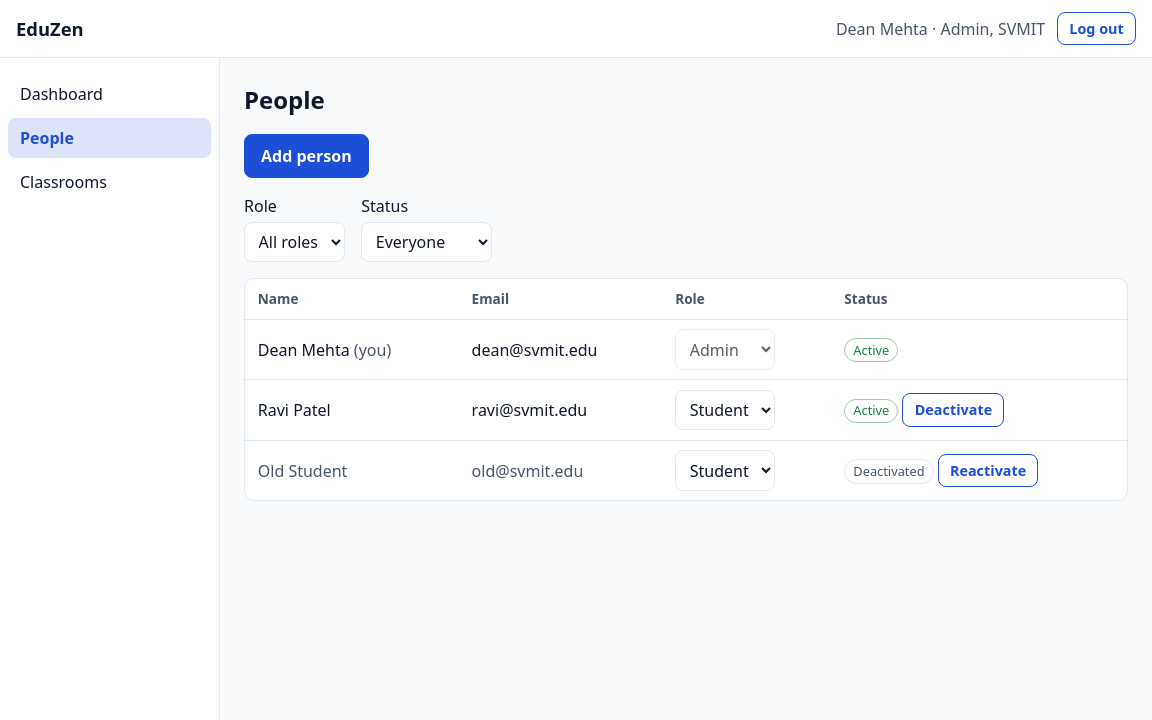
People page › adds a person and confirms it
The width and height of the screenshot is (1152, 720).
Click the button "Add person" at (306, 156), box 244,134 -> 369,178
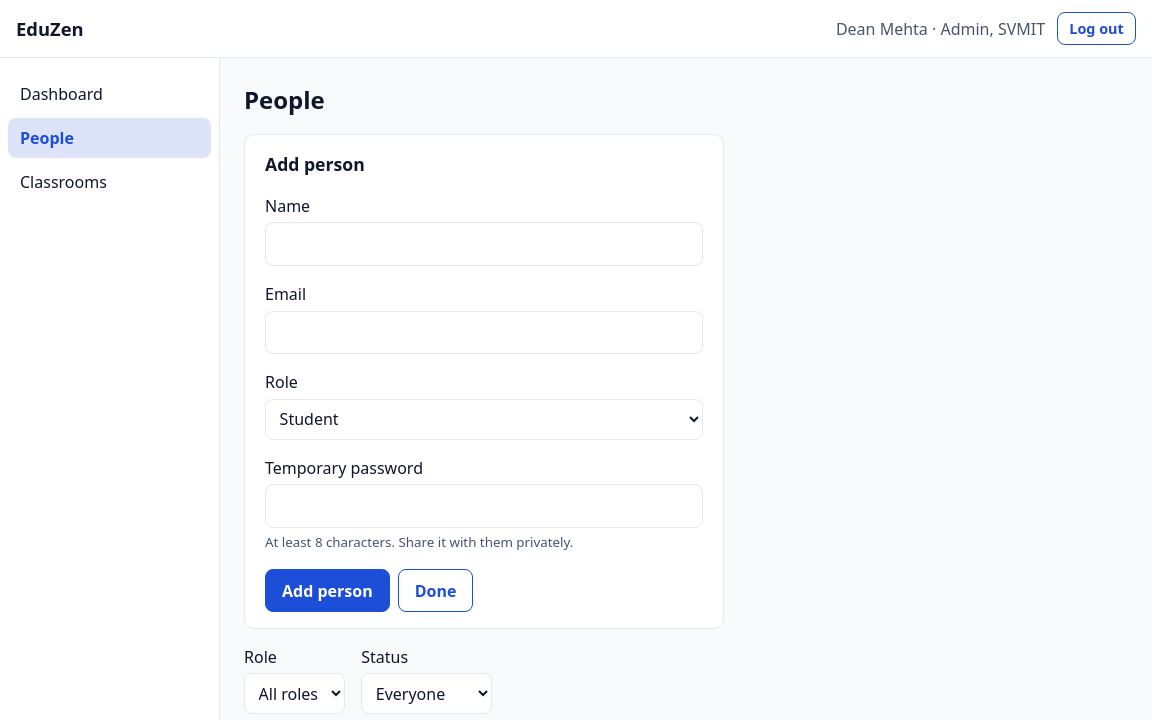
Type "Asha" into the field labelled "Name" at (484, 244), box 265,222 -> 703,266
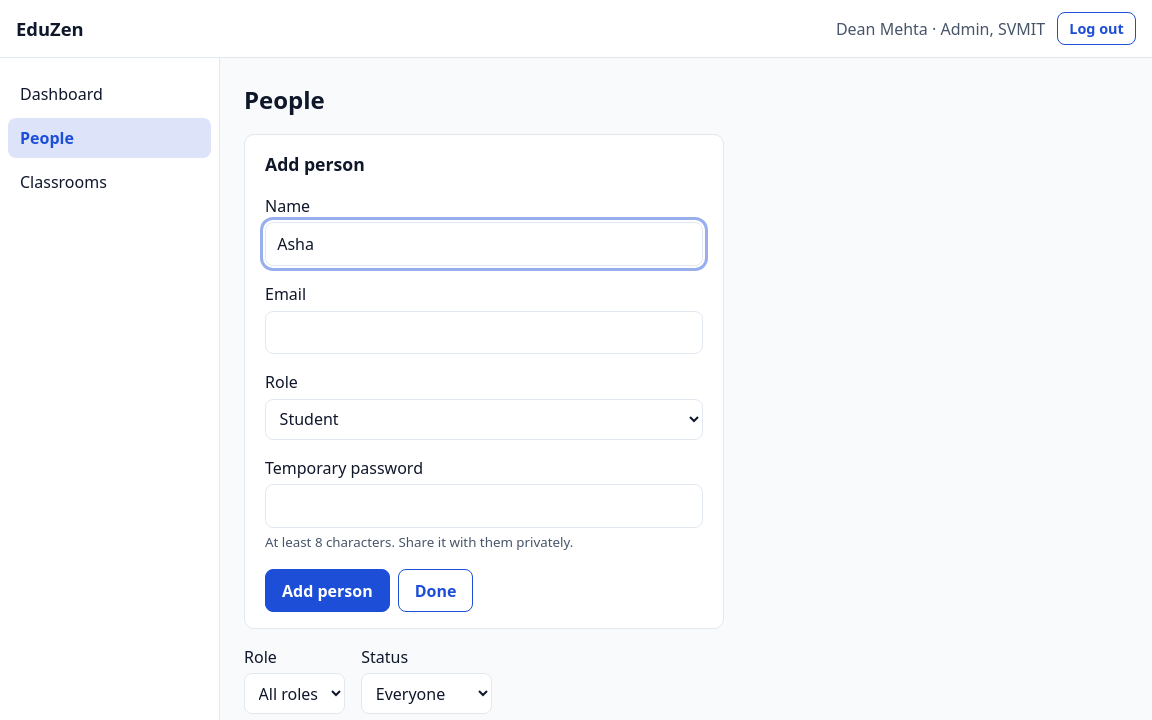
Type "asha@svmit.edu" into the field labelled "Email" at (484, 333), box 265,311 -> 703,354
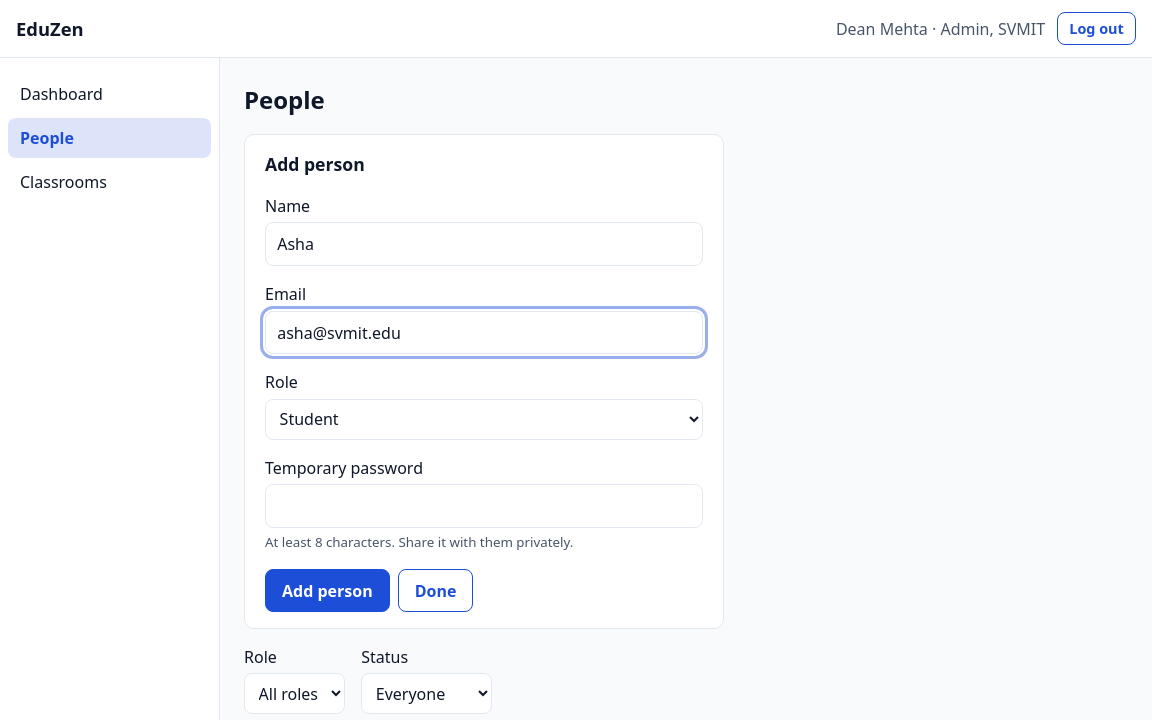
Select "Student" in the 1st dropdown labelled "Role" at (484, 419), box 265,399 -> 703,440
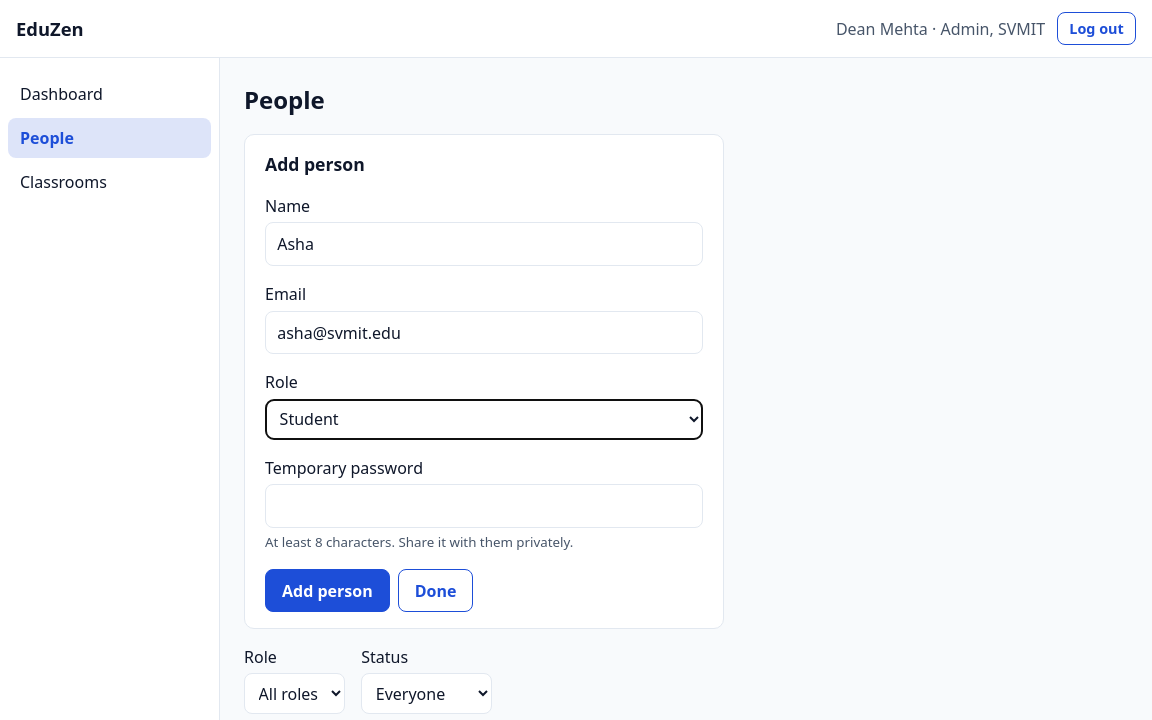
Type "temp-pass-123" into the password field labelled "Temporary password" at (484, 506), box 265,484 -> 703,528
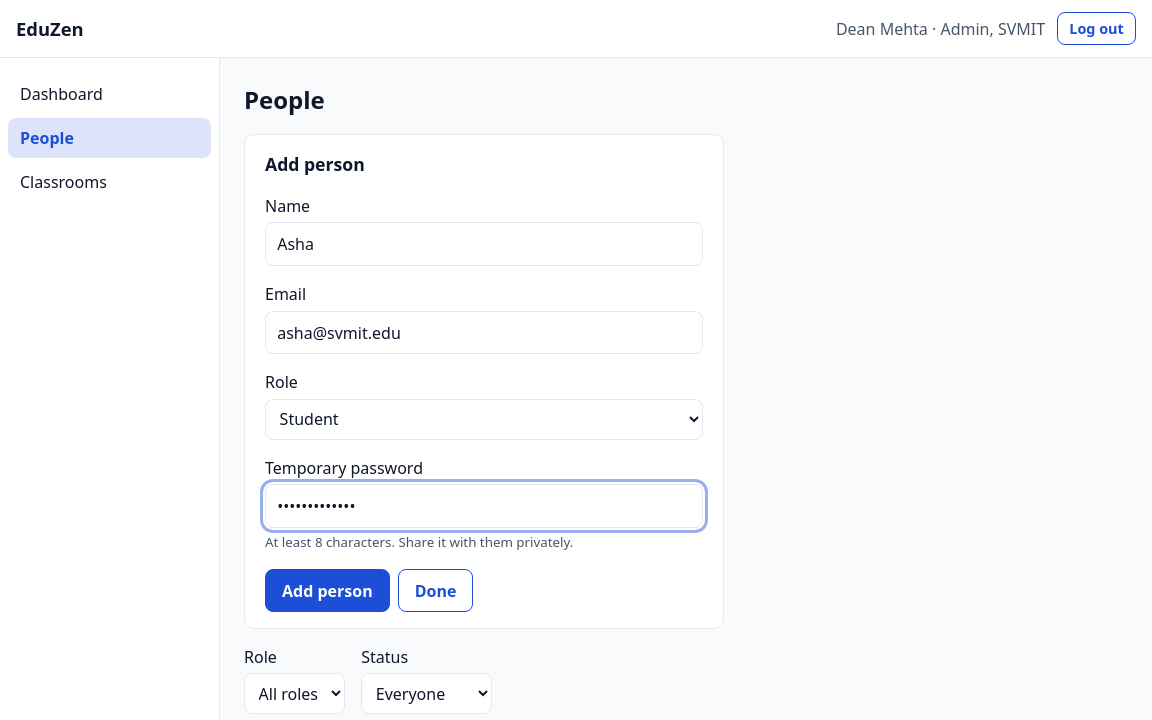
Click the button "Add person" at (327, 590), box 265,569 -> 390,612
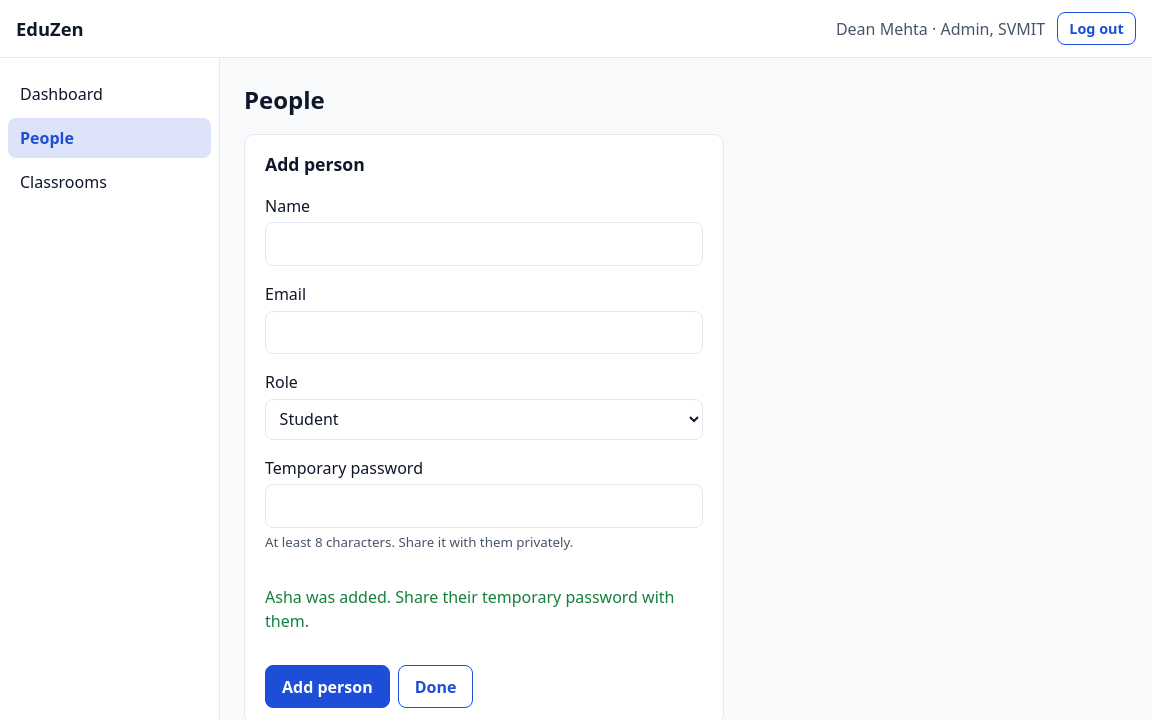
Check: the text "Asha was added. Share their temporary password with them." is shown, box 265,585 -> 703,633
